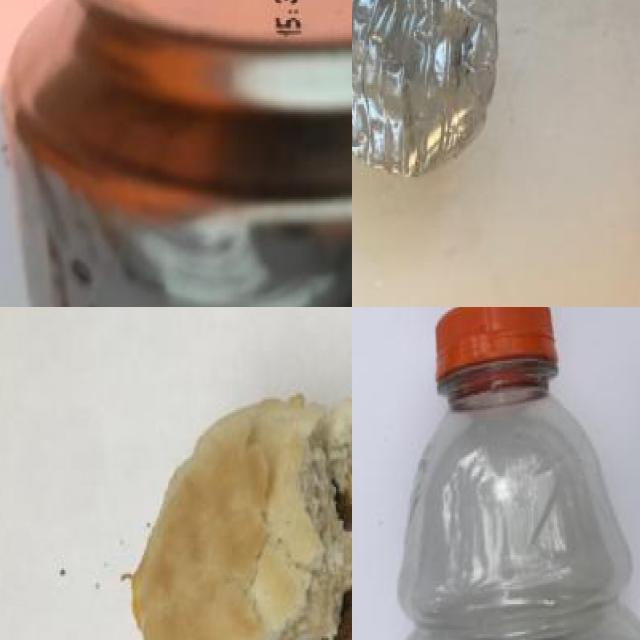compost: (110, 383, 352, 640)
plastic: (11, 0, 352, 307), (394, 307, 640, 640), (352, 0, 503, 180)
